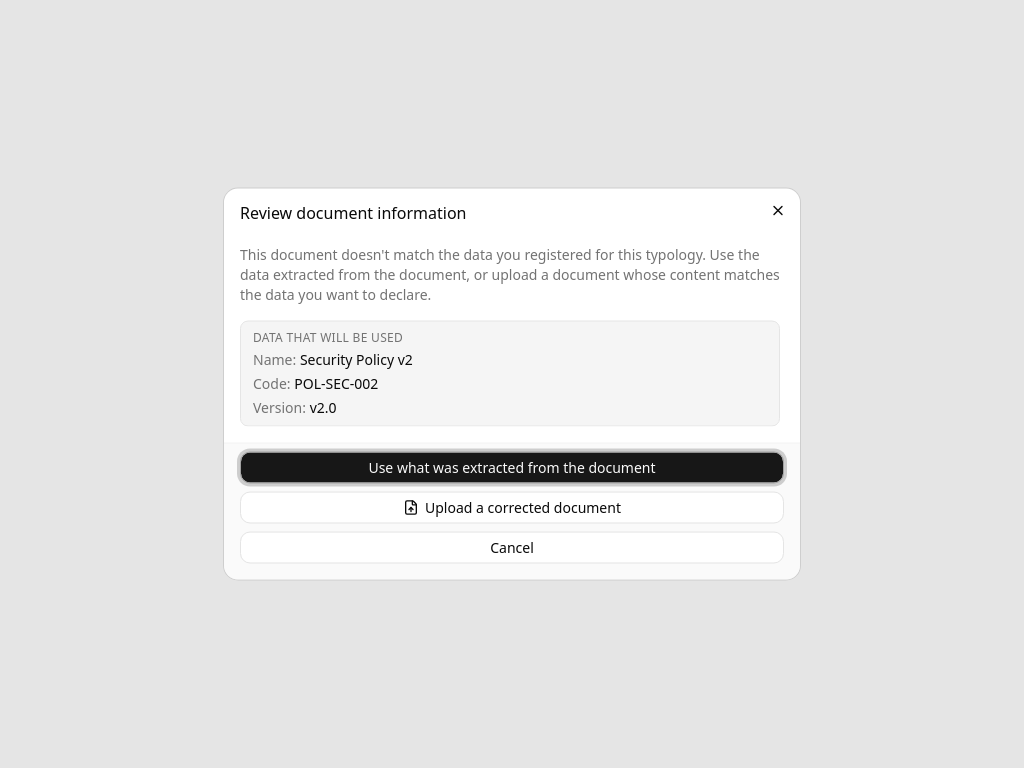
Test: ResolveExtractionDialog › shows a guiding error if the backend still rejects the resolution as mismatched
expect the heading "Review document information" is shown: met, box [240,202,466,224]
Click the button "Use what was extracted from the document" at (512, 468), box [240,452,784,484]
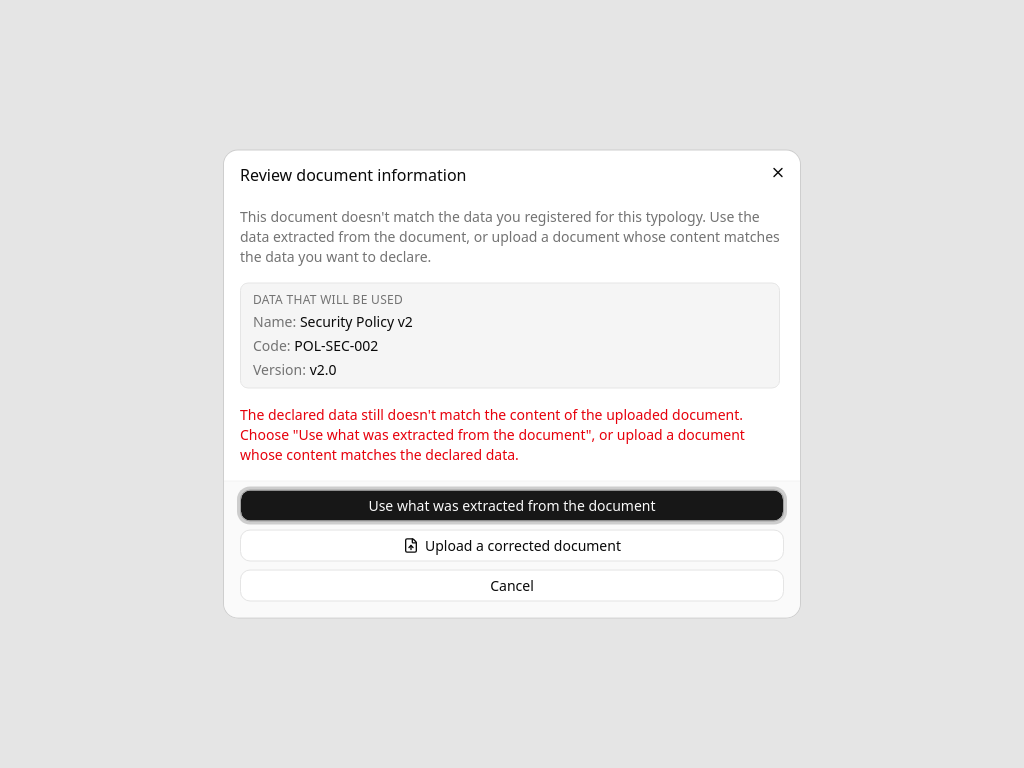
expect the text "The declared data still doesn't match the content of the uploaded document. Choose \"Use what was extracted from the docu" is shown: met, box [240,404,745,464]
